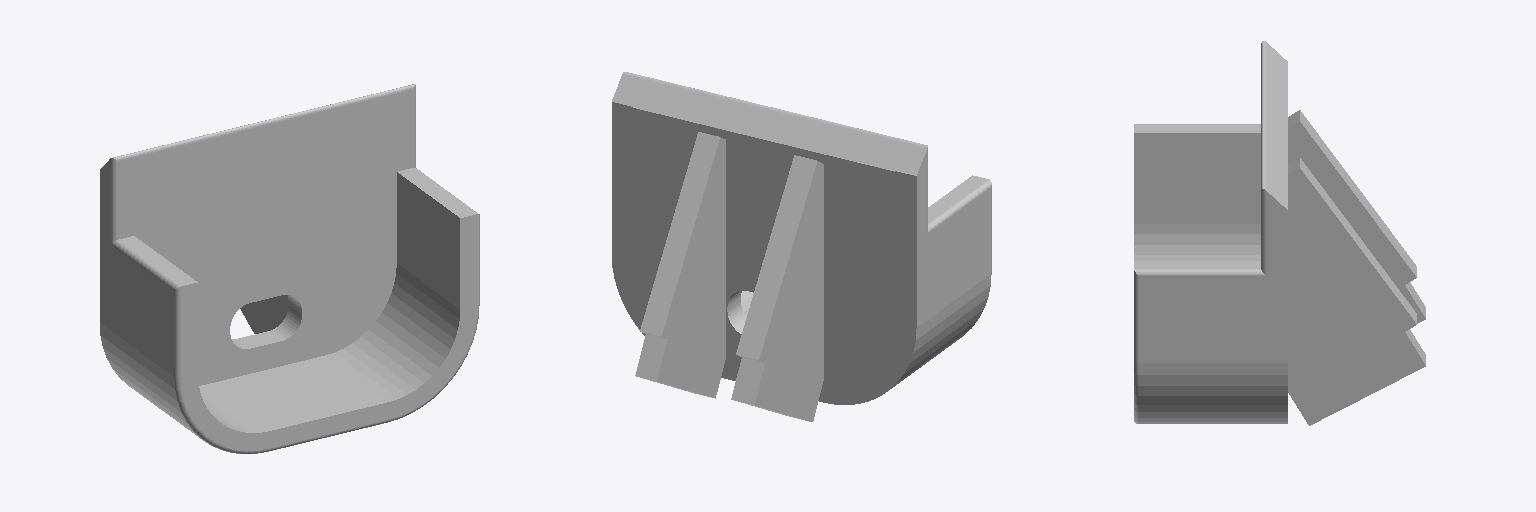
Rendered from stand.obj.
3 views of the same model, side by side, from view 1: azimuth 30°, elevation 25°; view 2: azimuth 150°, elevation 25°; view 3: azimuth 270°, elevation 25° (orthographic).
Visible parts, largest first — view 1: Mesh1 Group1 Model; view 2: Mesh1 Group1 Model; view 3: Mesh1 Group1 Model.
Part boxes in pixels (left/top/right/bottom): Mesh1 Group1 Model: left=100, top=84, right=479, bottom=453; Mesh1 Group1 Model: left=612, top=72, right=991, bottom=421; Mesh1 Group1 Model: left=1134, top=41, right=1425, bottom=425.
Size of the model in its own units: 63.9 by 56.53 by 53.13.